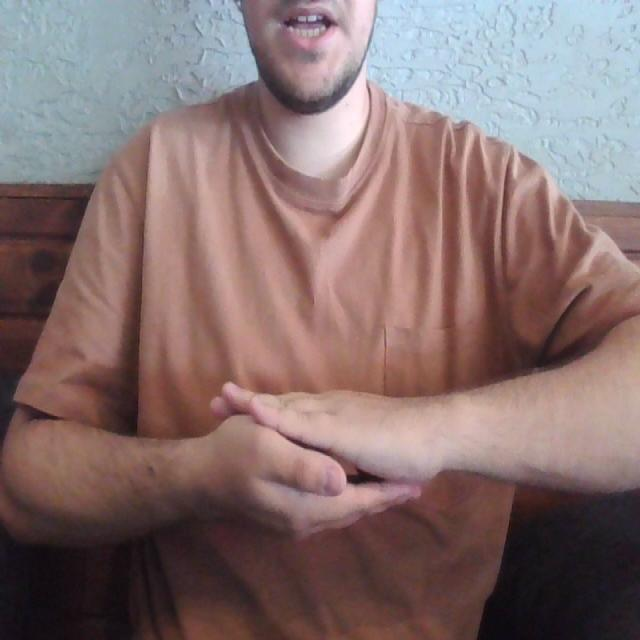Arkadas: (109, 371, 485, 546)
